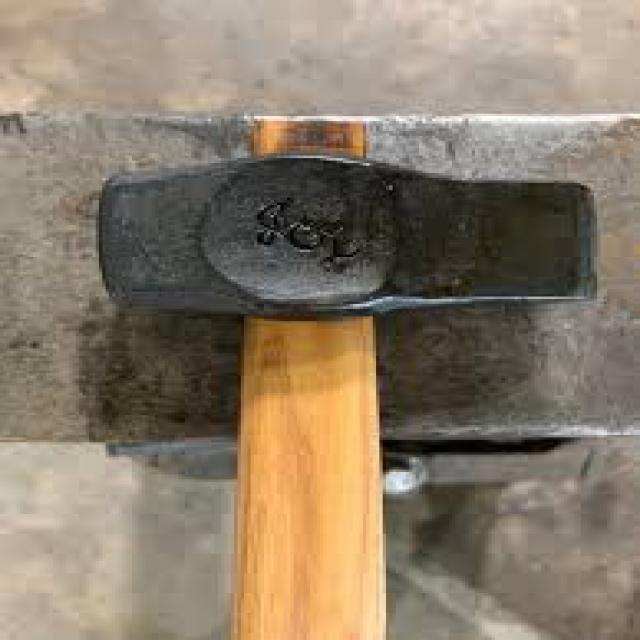hammer: (72, 111, 610, 640)
